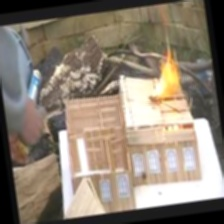fire: (149, 48, 185, 95)
